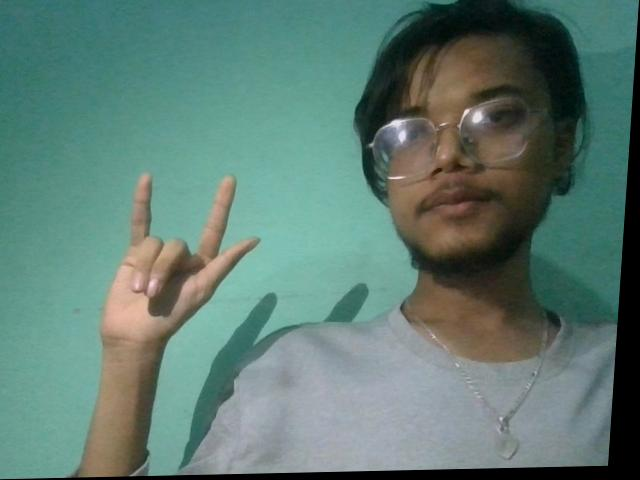I Love You: (83, 162, 284, 366)
